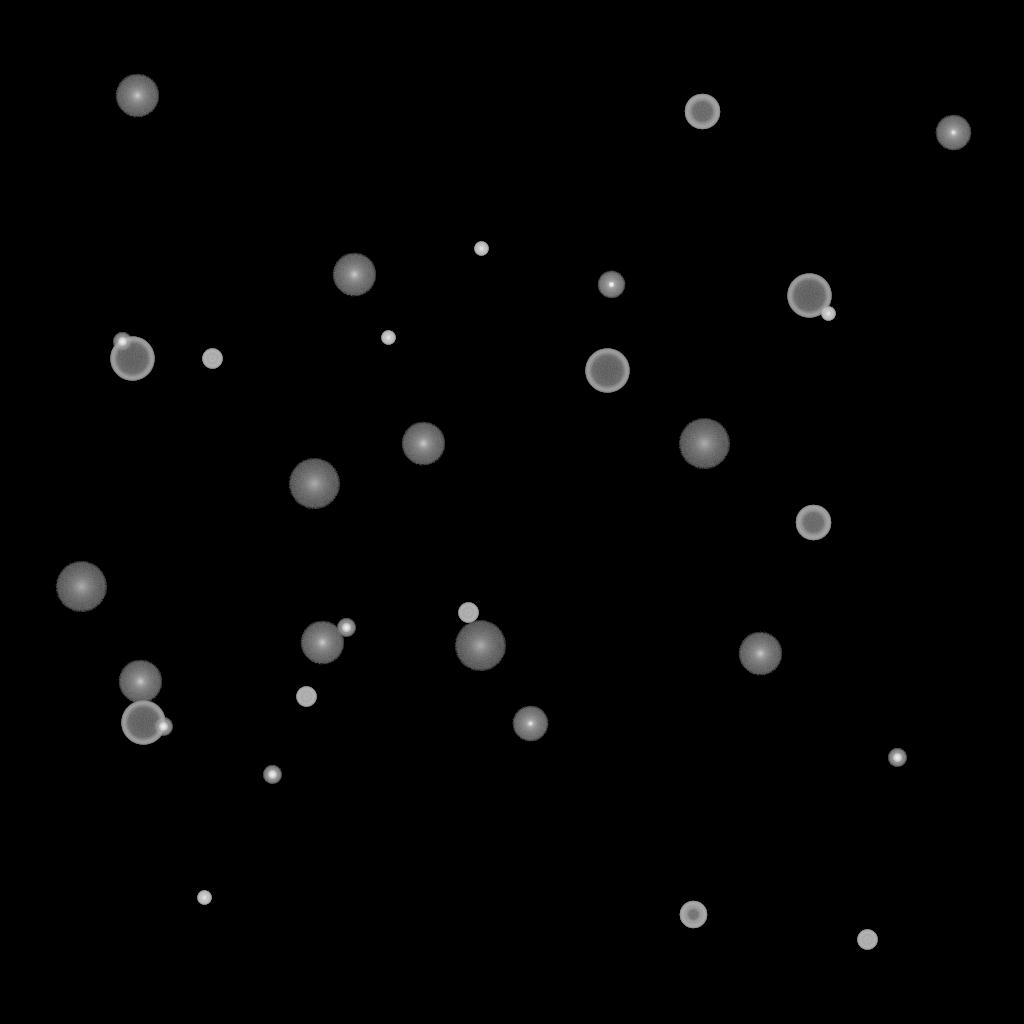depth:-10: (597, 271, 625, 299)
depth:-20: (888, 749, 906, 767), (154, 718, 172, 736), (337, 619, 355, 637), (113, 333, 131, 351), (263, 766, 281, 784)
depth:-30: (474, 242, 488, 256), (381, 331, 395, 345), (821, 307, 835, 321), (197, 891, 211, 905)
depth:-40: (458, 603, 478, 623), (202, 349, 222, 369), (296, 687, 316, 707), (857, 930, 877, 950)
depth:-50: (679, 901, 707, 929)
depth:-60: (795, 505, 831, 541), (684, 94, 720, 130)
depth:-70: (121, 701, 165, 745), (787, 274, 831, 318), (585, 349, 629, 393), (110, 337, 154, 381)
depth:0: (512, 706, 548, 742), (935, 115, 971, 151)
depth:10: (738, 632, 782, 676), (332, 253, 376, 297), (115, 74, 159, 118), (300, 621, 344, 665), (118, 660, 162, 704), (401, 422, 445, 466)
depth:20: (454, 621, 506, 671), (678, 419, 730, 469), (288, 459, 340, 509), (55, 562, 107, 612)
